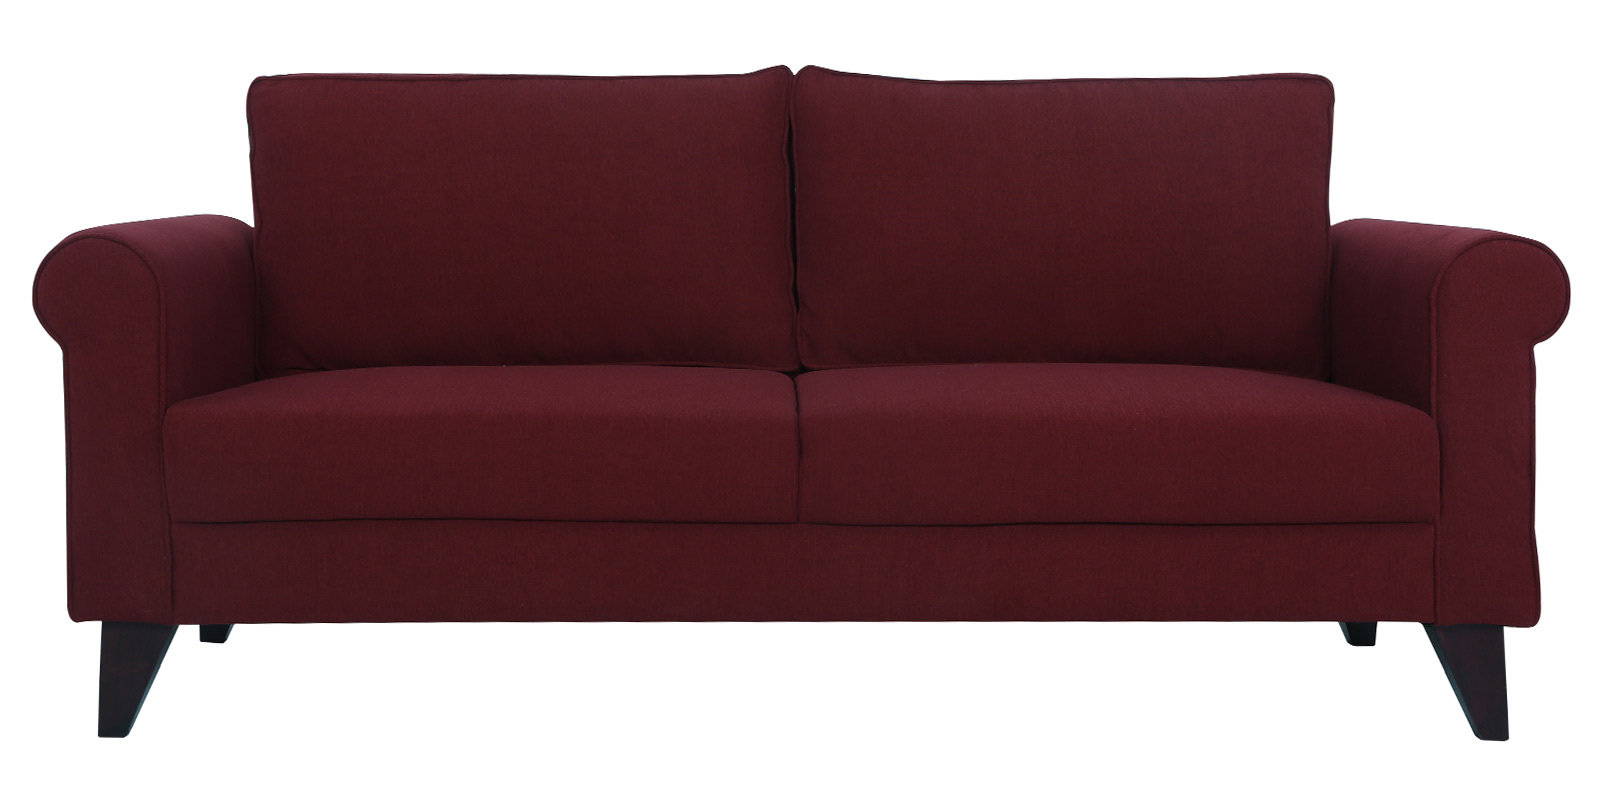Fuego Three Seater Sofa in Garnet Red Colour by CasaCraft: (16, 47, 1578, 766)
